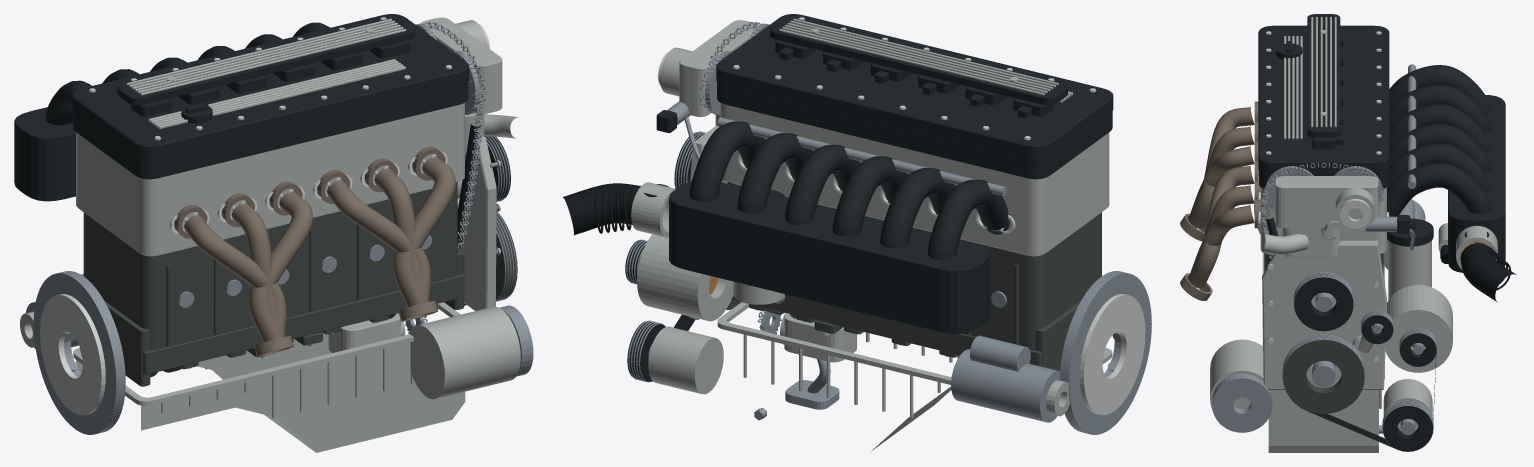
3 views of the same model, side by side, from view 1: azimuth 30°, elevation 25°; view 2: azimuth 150°, elevation 25°; view 3: azimuth 270°, elevation 25° (orthographic). The views are drawn at different scales.
Parts seen in each view (by area): view 1: m50_block_563e7975, m50_valve-cover_441ed3b3, m50_cylinder-head_3adfef6a, m50_oil-pan_ad217ce8, m50_flywheel_54836b12, m50_exhaust-manifold_1_3a400d1a, m50_exhaust-manifold_2_350aa195, m50_ac-compressor_40818d81, m50_coil-cover_9e9381c3, m50_intake-plenum_54627bb6, m50_lower-timing-cover_77e79085, m50_vanos_9a6767dd (+10 smaller); view 2: m50_valve-cover_441ed3b3, m50_intake-plenum_54627bb6, m50_cylinder-head_3adfef6a, m50_block_563e7975, m50_flywheel_54836b12, m50_coil-cover_9e9381c3, m50_starter_f7fbce61, m50_alternator_e8decd84, m50_oil-pan_ad217ce8, m50_power-steering-pump_48c2ec75, m50_vanos_9a6767dd, m50_intake-runner_6_bfa67e25 (+15 smaller); view 3: m50_valve-cover_441ed3b3, m50_lower-timing-cover_77e79085, m50_vanos_9a6767dd, m50_oil-pan_ad217ce8, m50_pulley_crank_8c2ac84c, m50_ac-compressor_40818d81, m50_exhaust-manifold_1_3a400d1a, m50_coil-cover_9e9381c3, m50_exhaust-manifold_2_350aa195, m50_intake-plenum_54627bb6, m50_alternator_e8decd84, m50_intake-runner_1_e9c7a01f (+26 smaller).
Boxes of the visible parts, x1=… form: m50_block_563e7975: x1=83, y1=182, x2=464, y2=386; m50_valve-cover_441ed3b3: x1=72, y1=14, x2=468, y2=179; m50_cylinder-head_3adfef6a: x1=76, y1=103, x2=464, y2=255; m50_oil-pan_ad217ce8: x1=73, y1=302, x2=465, y2=452; m50_flywheel_54836b12: x1=33, y1=271, x2=125, y2=434; m50_exhaust-manifold_1_3a400d1a: x1=317, y1=146, x2=455, y2=321; m50_exhaust-manifold_2_350aa195: x1=174, y1=181, x2=313, y2=356; m50_ac-compressor_40818d81: x1=409, y1=305, x2=533, y2=399; m50_coil-cover_9e9381c3: x1=117, y1=17, x2=415, y2=105; m50_intake-plenum_54627bb6: x1=14, y1=107, x2=75, y2=201; m50_lower-timing-cover_77e79085: x1=461, y1=136, x2=496, y2=310; m50_vanos_9a6767dd: x1=421, y1=17, x2=502, y2=114; m50_valve-cover_441ed3b3: x1=716, y1=14, x2=1113, y2=179; m50_intake-plenum_54627bb6: x1=669, y1=181, x2=989, y2=333; m50_cylinder-head_3adfef6a: x1=720, y1=102, x2=1109, y2=255; m50_block_563e7975: x1=726, y1=182, x2=1101, y2=370; m50_flywheel_54836b12: x1=1059, y1=271, x2=1151, y2=434; m50_coil-cover_9e9381c3: x1=770, y1=17, x2=1067, y2=105; m50_starter_f7fbce61: x1=951, y1=335, x2=1069, y2=422; m50_alternator_e8decd84: x1=637, y1=234, x2=733, y2=321; m50_oil-pan_ad217ce8: x1=717, y1=302, x2=1112, y2=451; m50_power-steering-pump_48c2ec75: x1=648, y1=326, x2=723, y2=394; m50_vanos_9a6767dd: x1=658, y1=20, x2=759, y2=160; m50_intake-runner_6_bfa67e25: x1=927, y1=179, x2=1009, y2=259; m50_valve-cover_441ed3b3: x1=1258, y1=25, x2=1389, y2=188; m50_lower-timing-cover_77e79085: x1=1262, y1=240, x2=1386, y2=389; m50_vanos_9a6767dd: x1=1275, y1=176, x2=1415, y2=250; m50_oil-pan_ad217ce8: x1=1262, y1=252, x2=1384, y2=452; m50_pulley_crank_8c2ac84c: x1=1282, y1=334, x2=1365, y2=413; m50_ac-compressor_40818d81: x1=1210, y1=339, x2=1274, y2=432; m50_exhaust-manifold_1_3a400d1a: x1=1180, y1=160, x2=1260, y2=300; m50_coil-cover_9e9381c3: x1=1307, y1=14, x2=1340, y2=137; m50_exhaust-manifold_2_350aa195: x1=1180, y1=101, x2=1258, y2=241; m50_intake-plenum_54627bb6: x1=1448, y1=95, x2=1505, y2=272; m50_alternator_e8decd84: x1=1383, y1=285, x2=1452, y2=372; m50_intake-runner_1_e9c7a01f: x1=1387, y1=163, x2=1491, y2=216.
Size of the model in its own units: 0.86 by 0.69 by 0.6662.
